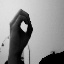o: (8, 7, 34, 45)
